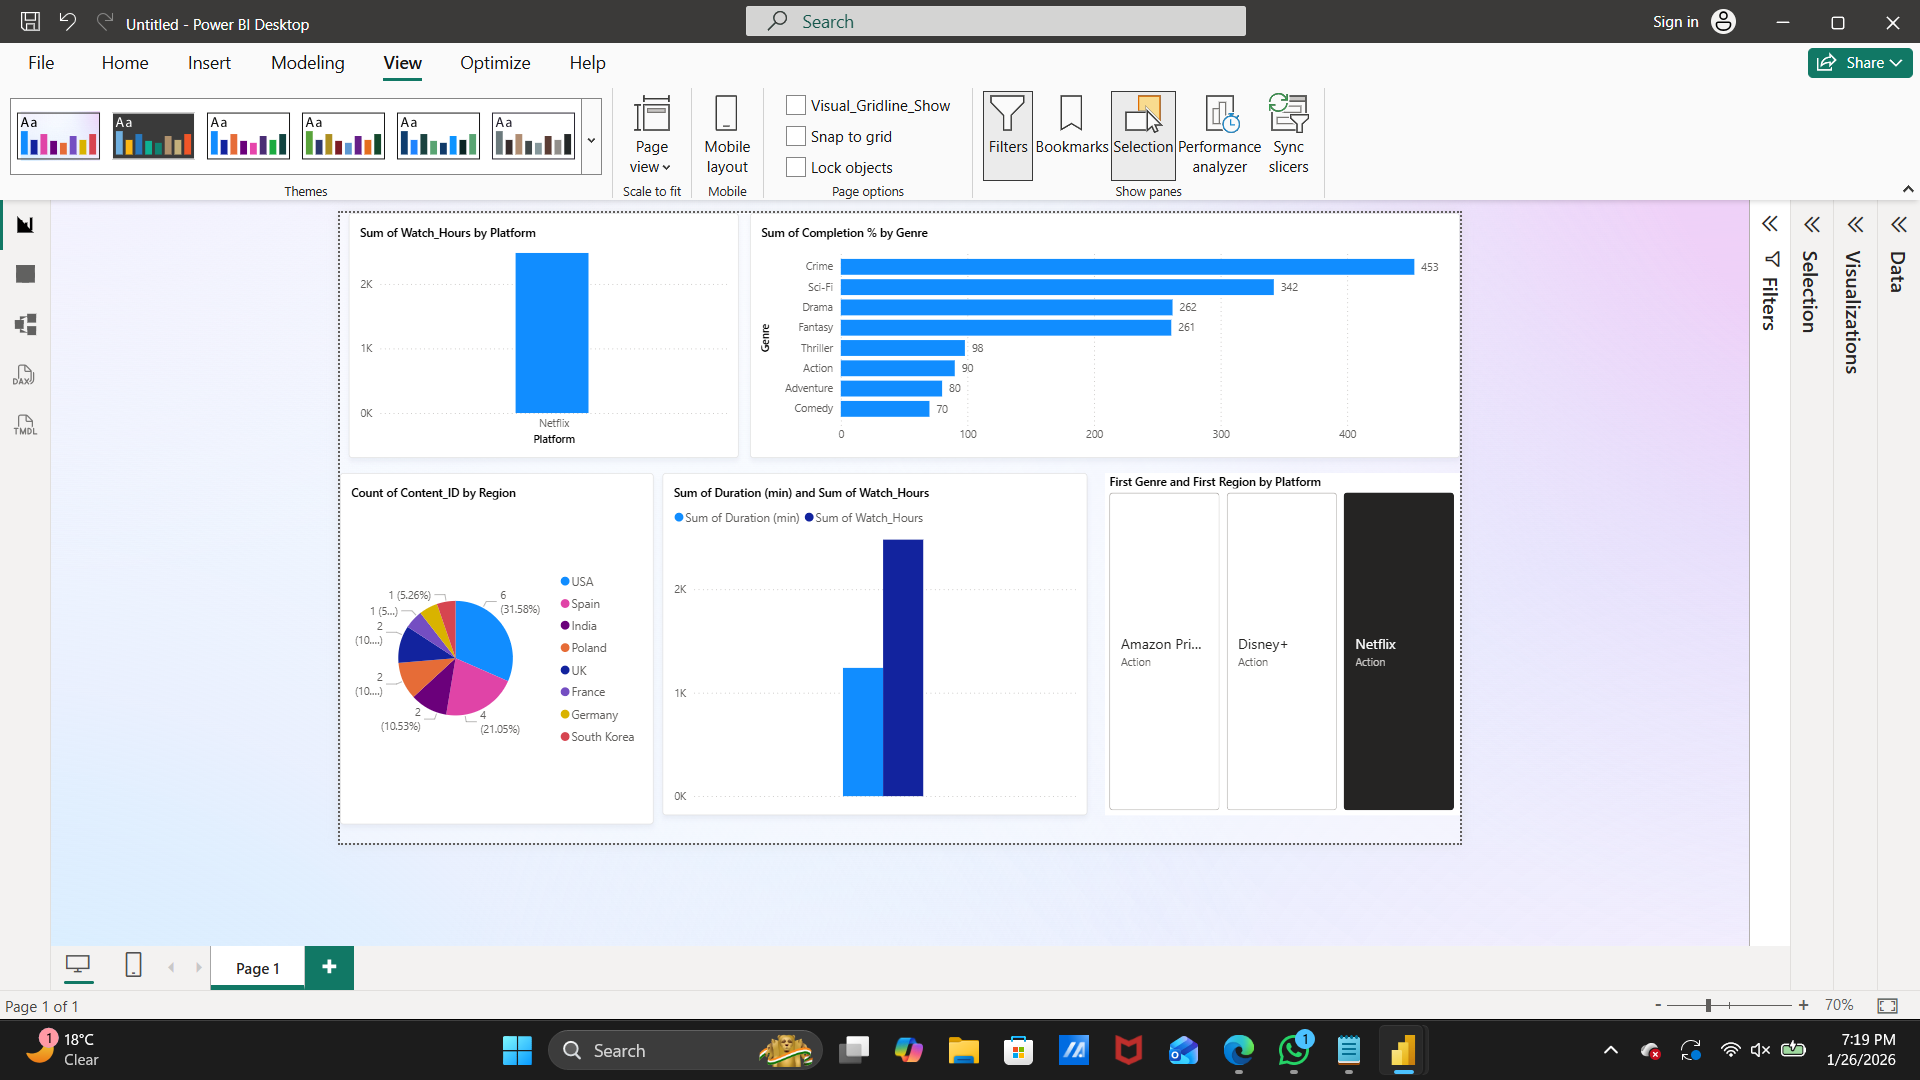

The page's visual inventory and layout, read from the dashboard file:
{"tool":"powerbi","page":{"name":"Page 1","canvas":[1280,720],"ordinal":0},"visuals":[{"type":"advancedSlicerVisual","fields":{"Values":["OTT Platform Sample Data.Platform"],"Label":["Min(OTT Platform Sample Data.Genre)"]},"box":[874.3,297.1,405.7,391.4],"z":0},{"type":"clusteredColumnChart","fields":{"Category":["OTT Platform Sample Data.Platform"],"Y":["Sum(OTT Platform Sample Data.Watch_Hours)"]},"box":[10,0,445.7,280],"z":1000},{"type":"barChart","fields":{"Category":["OTT Platform Sample Data.Genre"],"Y":["Sum(OTT Platform Sample Data.Completion %)"]},"box":[468.6,0,811.4,280],"z":2000},{"type":"pieChart","fields":{"Category":["OTT Platform Sample Data.Region"],"Y":["CountNonNull(OTT Platform Sample Data.Content_ID)"]},"box":[0,297.1,358.6,401.4],"z":3000},{"type":"clusteredColumnChart","fields":{"Y":["Sum(OTT Platform Sample Data.Duration (min))","Sum(OTT Platform Sample Data.Watch_Hours)"]},"box":[368.6,297.1,485.7,391.4],"z":4000}]}

Visuals, with their boxes on the page's 1280x720 design canvas (x1, y1, x2, y2). These are canvas units, not pixel positions in the 1920x1080 screenshot, which may show the page scaled, cropped or inside an application window:
advancedSlicerVisual - OTT Platform Sample Data.Platform x Min(OTT Platform Sample Data.Genre): crop(874, 297, 1280, 688)
clusteredColumnChart - OTT Platform Sample Data.Platform x Sum(OTT Platform Sample Data.Watch_Hours): crop(10, 0, 456, 280)
barChart - OTT Platform Sample Data.Genre x Sum(OTT Platform Sample Data.Completion %): crop(469, 0, 1280, 280)
pieChart - OTT Platform Sample Data.Region x CountNonNull(OTT Platform Sample Data.Content_ID): crop(0, 297, 359, 698)
clusteredColumnChart - Sum(OTT Platform Sample Data.Duration (min)) x Sum(OTT Platform Sample Data.Watch_Hours): crop(369, 297, 854, 688)
